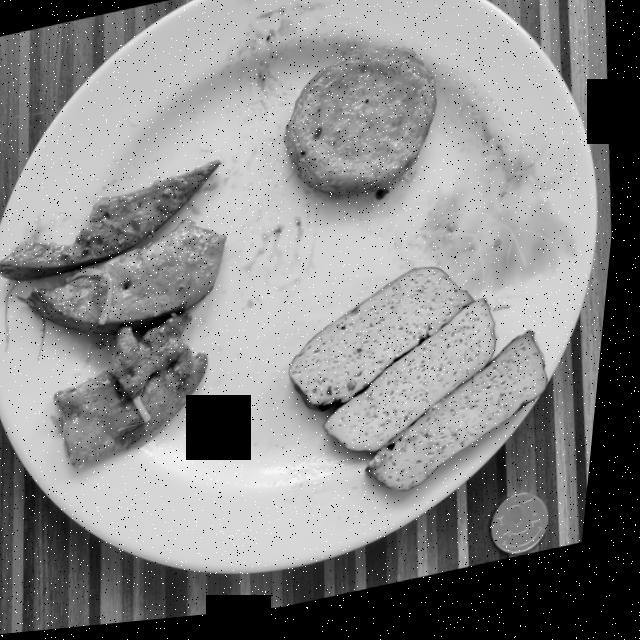coin: (501, 504, 558, 565)
firm tofu: (297, 277, 554, 500)
fish cake: (287, 55, 438, 202)
pig liver: (3, 165, 230, 469)
